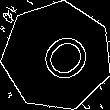O_SW: (23, 23, 90, 90)
